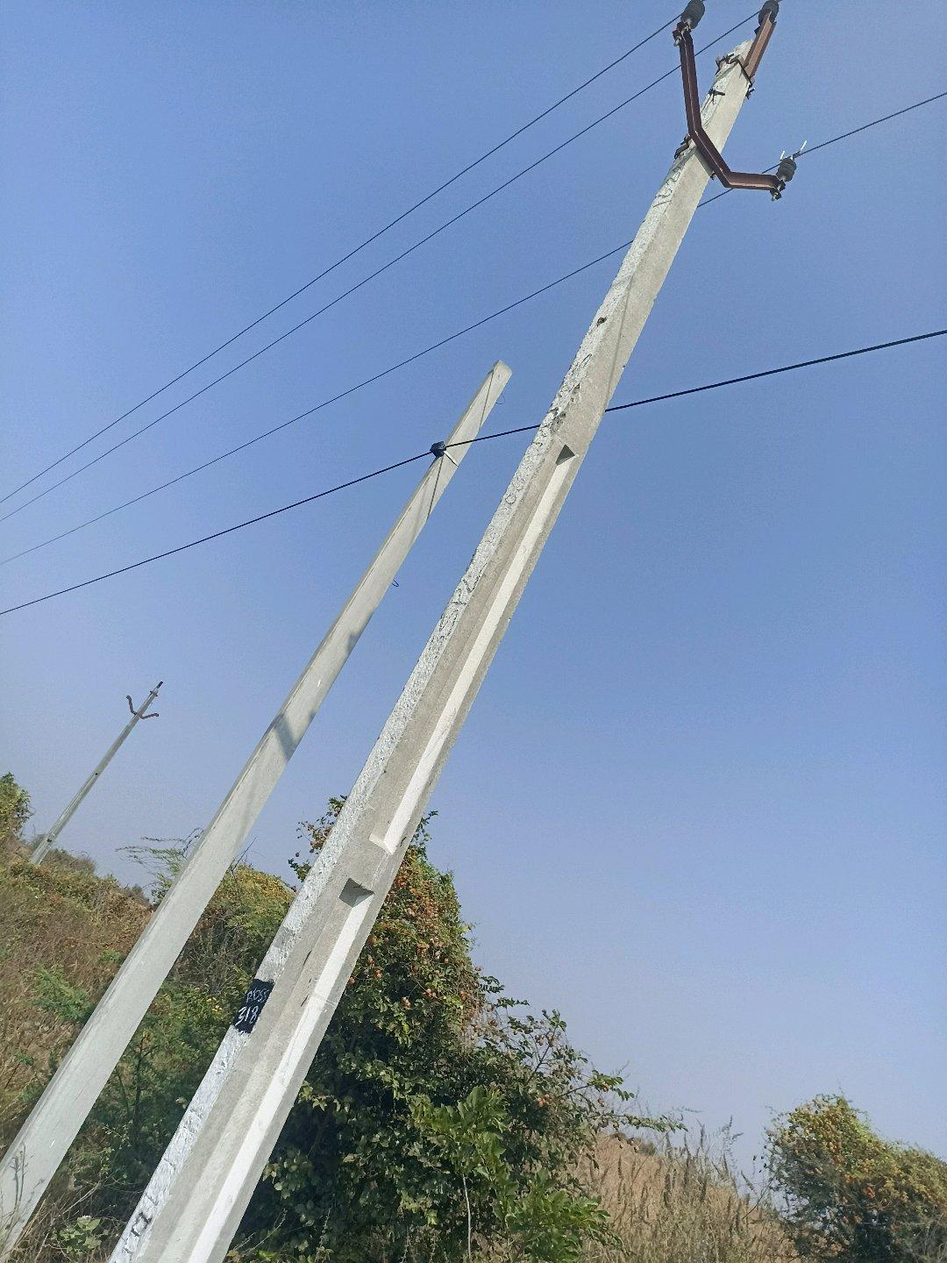{"0" "insulator", "1" "pole", "2" "crossarm", "3" "conductor", "4" "street_: (109, 0, 795, 1262), (29, 681, 162, 865)
